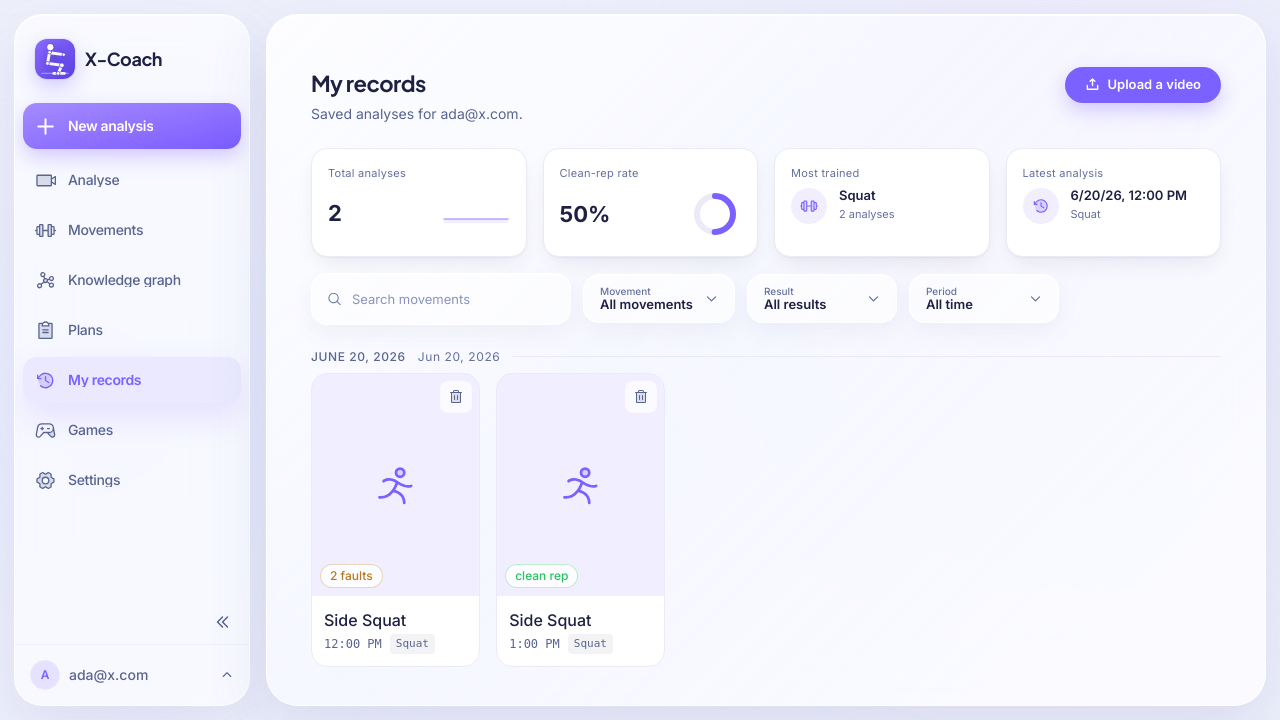
Test: History › deletes a row after confirmation and removes it from the list
The image size is (1280, 720).
Expected: the text "2 faults" is shown, [320, 564, 383, 588]
Step 1. Click the 1st button named "Delete this record" → {"x": 456, "y": 396}, box [440, 380, 472, 412]
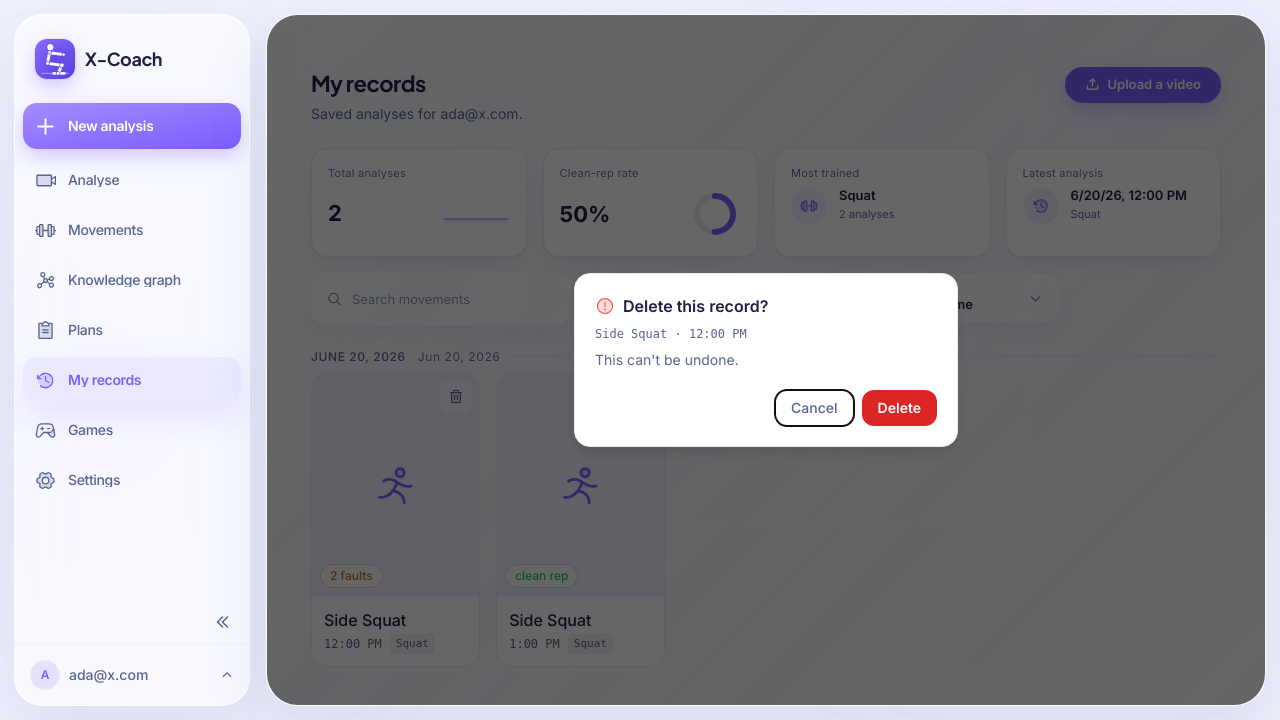
Step 2. Click the button "Delete" → {"x": 899, "y": 408}, box [862, 390, 937, 426]
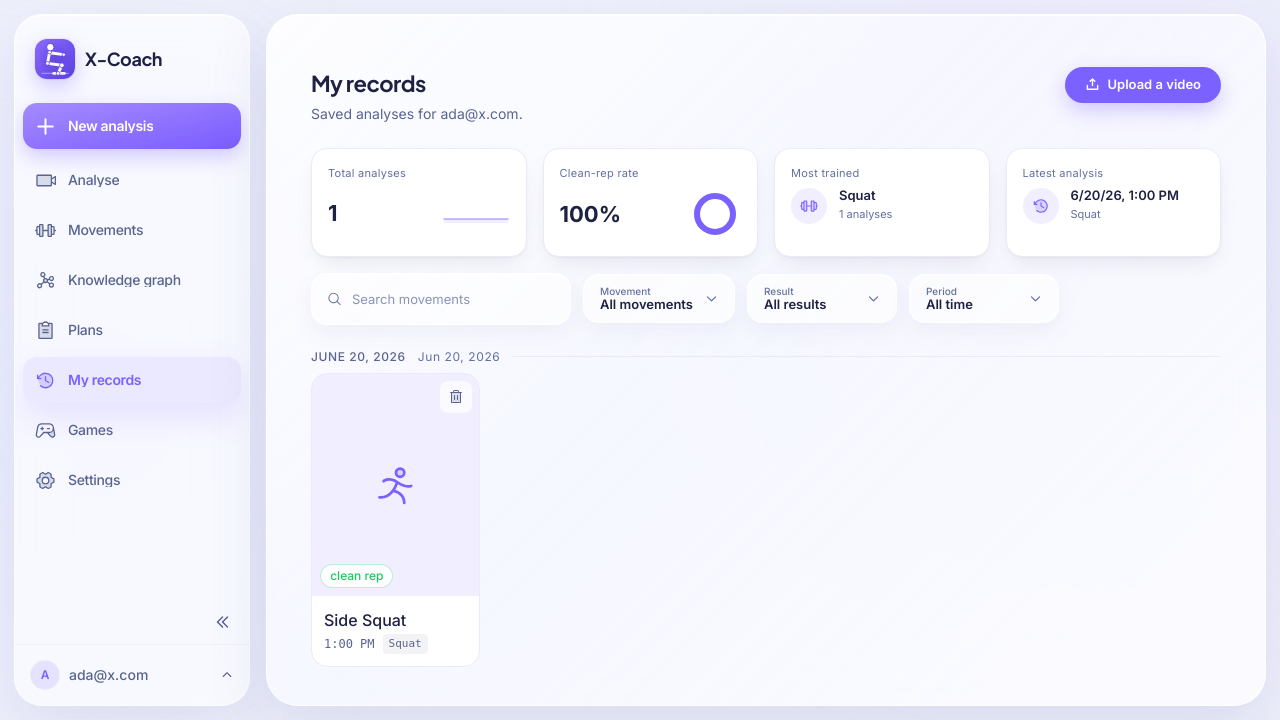
Expected: the text "clean rep" is shown, [320, 564, 393, 588]
Expected: the link "2 faults" is gone
